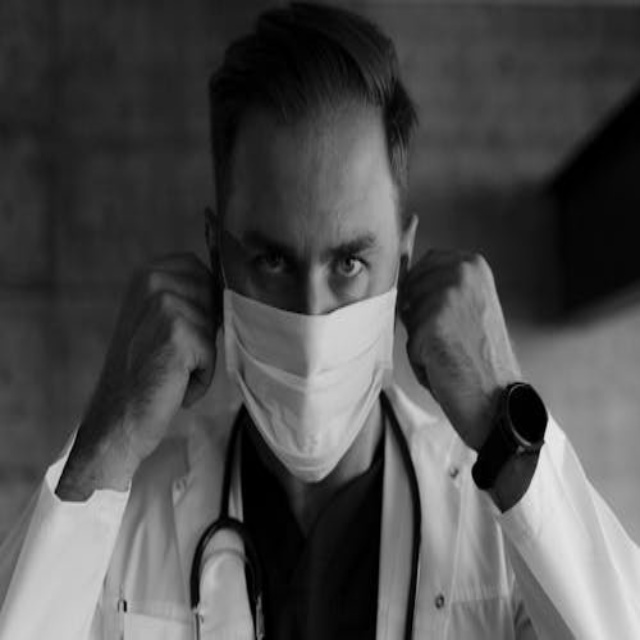Mascara: (221, 233, 400, 482)
Sin_gafas: (227, 209, 380, 296)
Sin_guantes: (87, 244, 220, 469), (398, 229, 524, 446)
